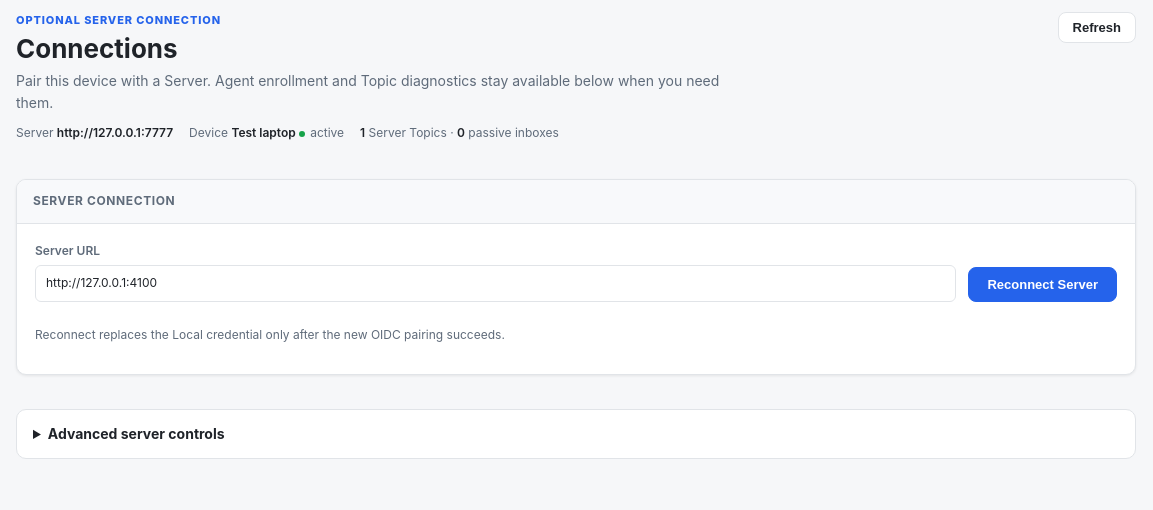
Test: NetworkView › starts browser OIDC login locally and opens the Server pairing URL
Click the button "Reconnect Server" at (1043, 284), box [968, 267, 1117, 302]
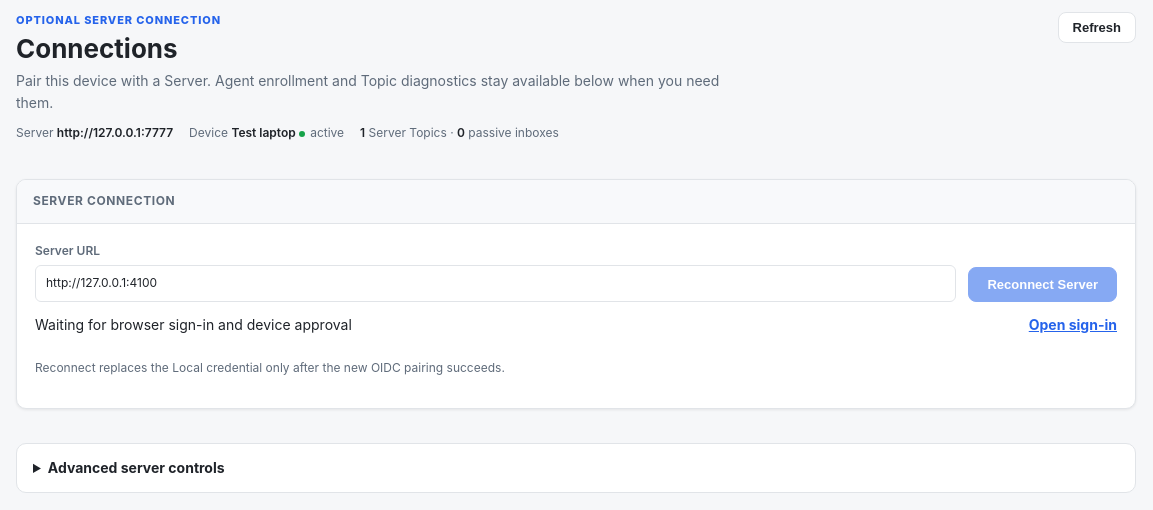
Expected: the text "Waiting for browser sign-in and device approval" is shown, [35, 314, 352, 335]
